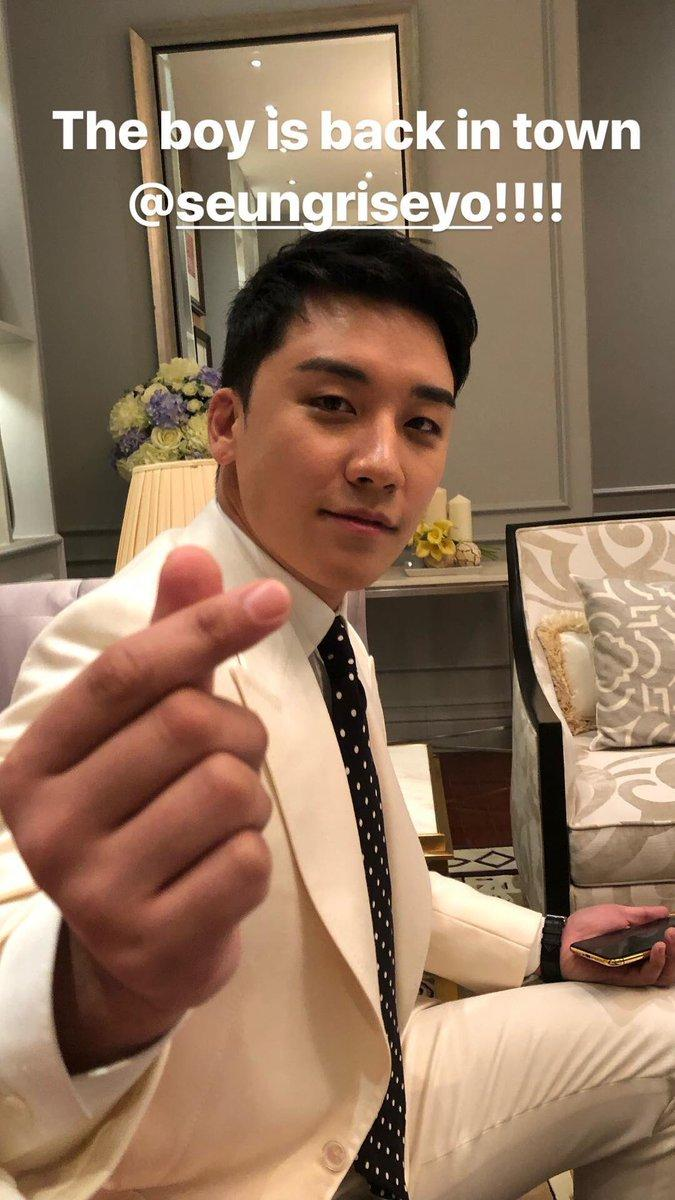heart gesture: (124, 541, 300, 689)
